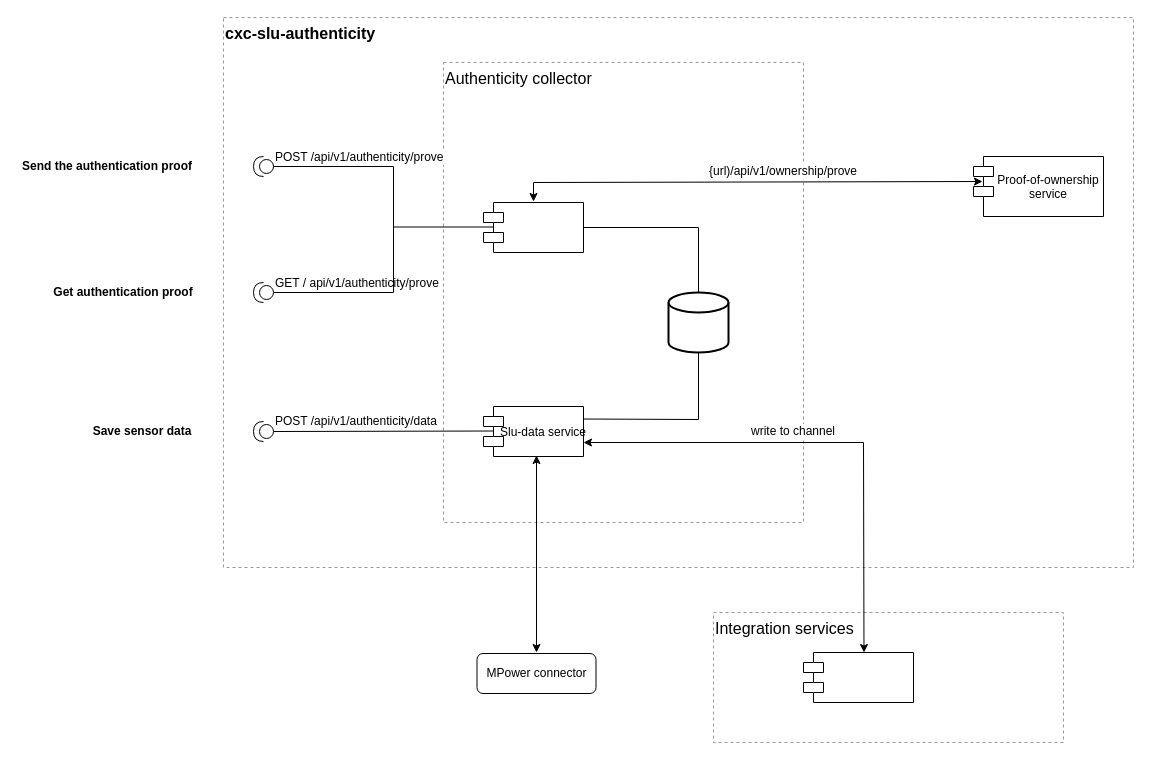
The diagram is 1151 pixels wide and 760 high, and some of its shapes have lost their labels. Here are the shapes that lost their labels. From the top down, the centre of each, then its label:
At pixel 533 227: "Identity service".
At pixel 698 322: "slu db".
At pixel 858 677: "Channel service".
